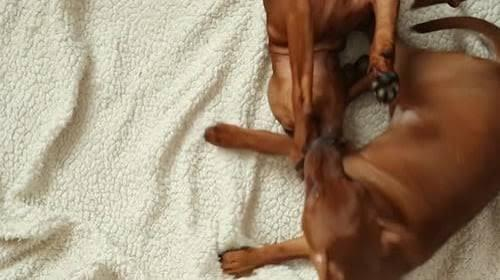adult_dog: (206, 0, 500, 280), (263, 1, 399, 170)
